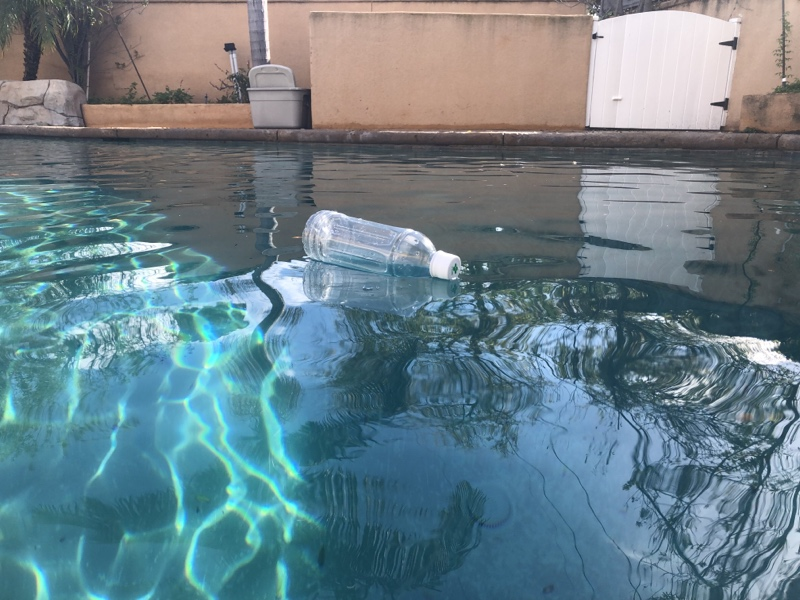Plastic Bottle: (299, 209, 464, 285)
